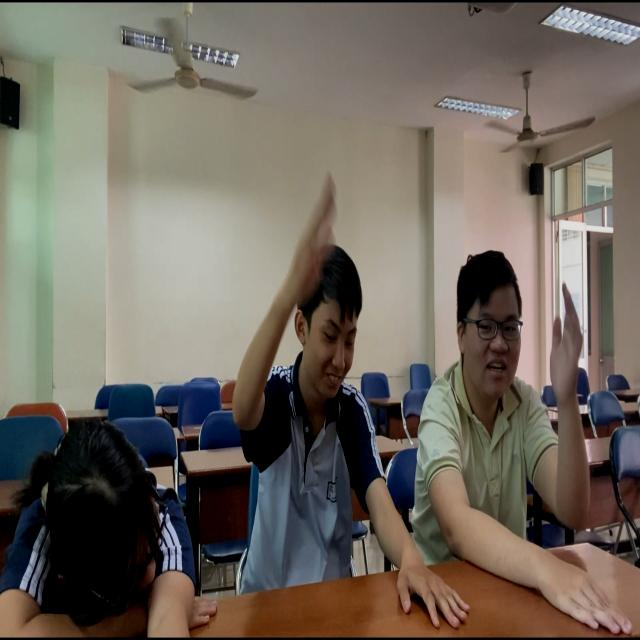raise_hand: (425, 243, 596, 570)
sleep: (1, 394, 234, 640)
